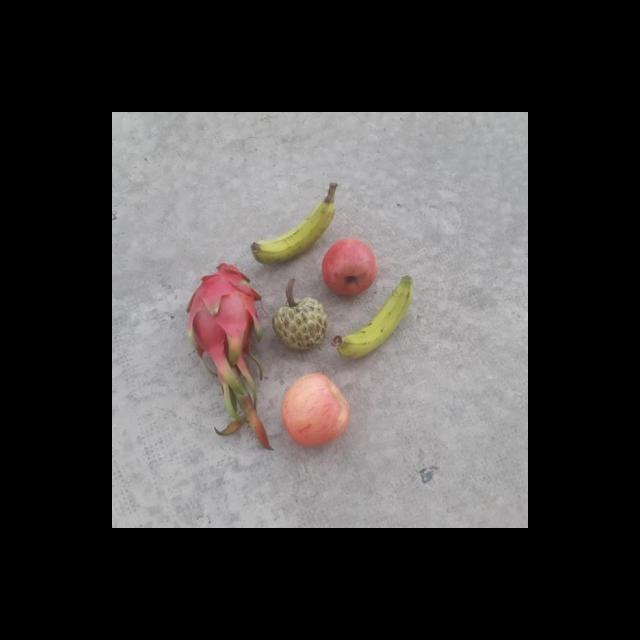Sakya fruit: (266, 296, 328, 354)
apple: (277, 369, 355, 449), (318, 232, 376, 294)
banana: (332, 275, 415, 360), (249, 194, 336, 263)
pitaya: (186, 259, 262, 363)
